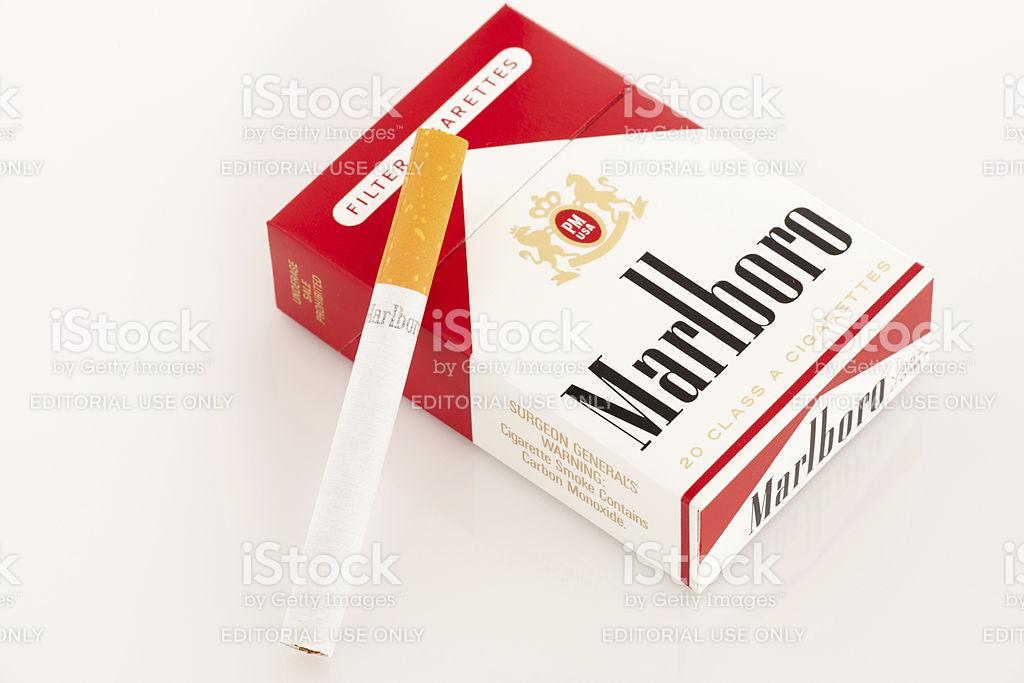marlboro_red: (335, 61, 858, 446)
